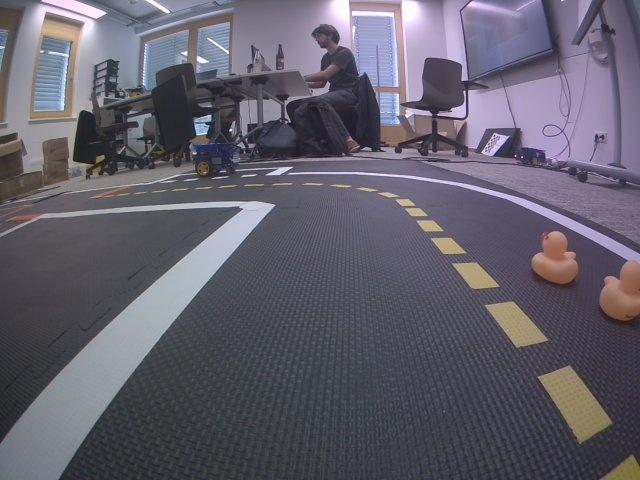bot: (189, 140, 237, 178)
duckie: (529, 229, 578, 285), (599, 260, 639, 322)
park: (149, 167, 292, 183)
